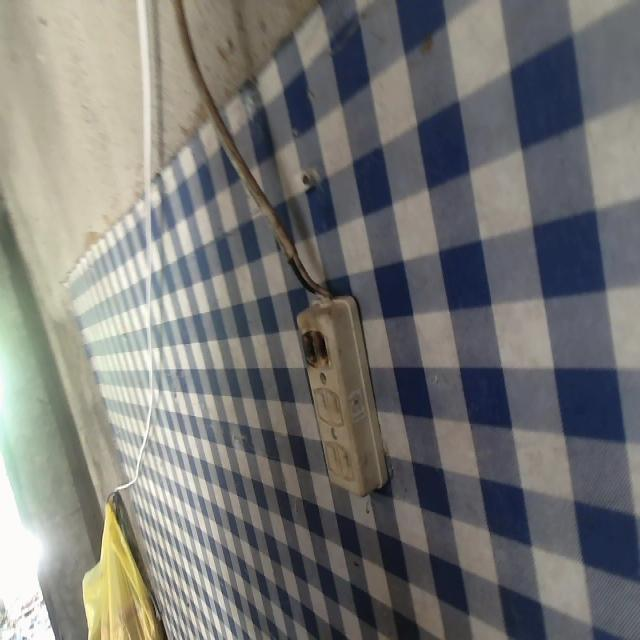-: (295, 314, 336, 378)
